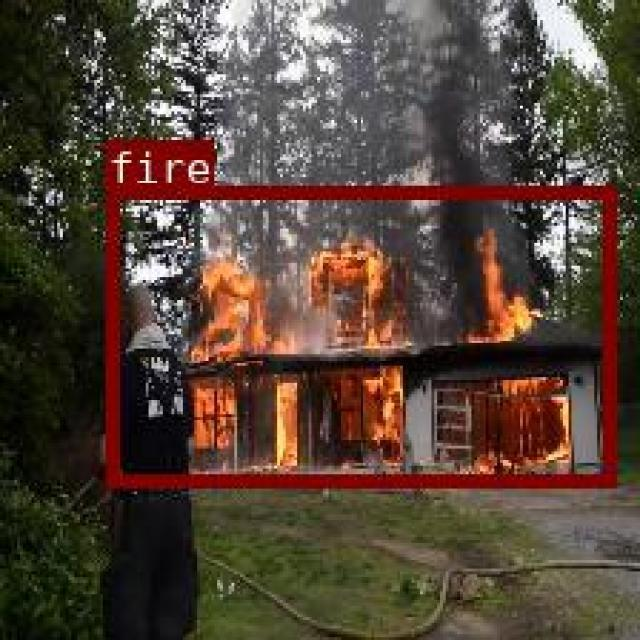fire: (103, 185, 612, 485)
